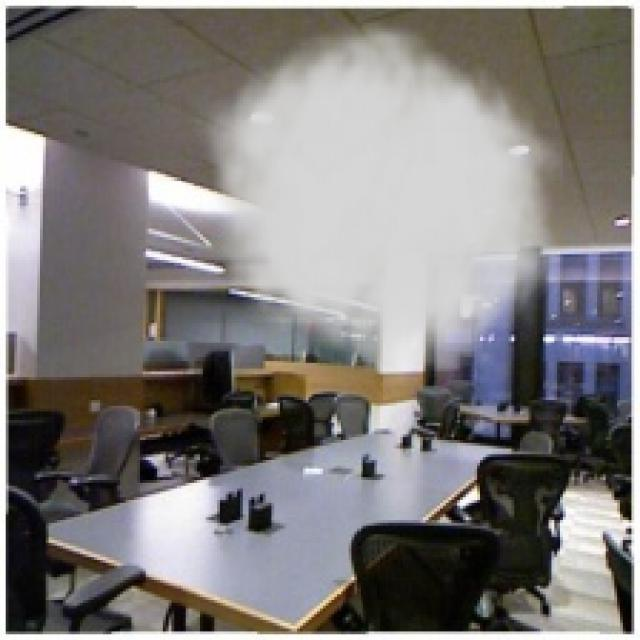Smoke: (191, 9, 563, 392)
